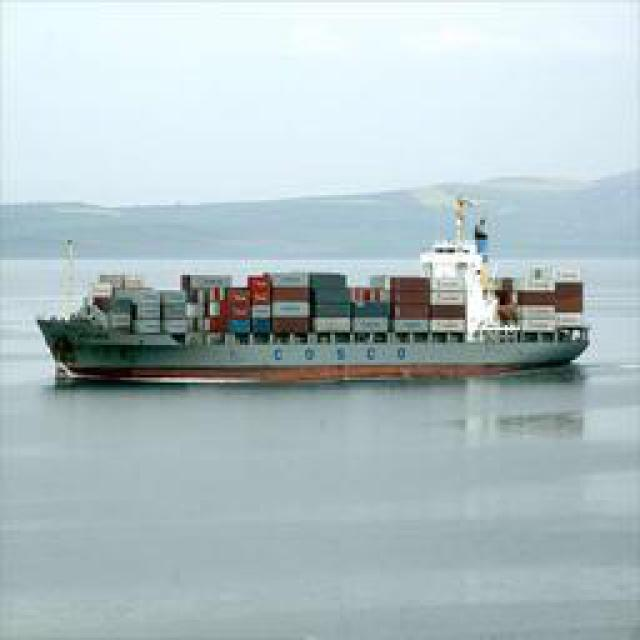Ship: (38, 197, 616, 385)
